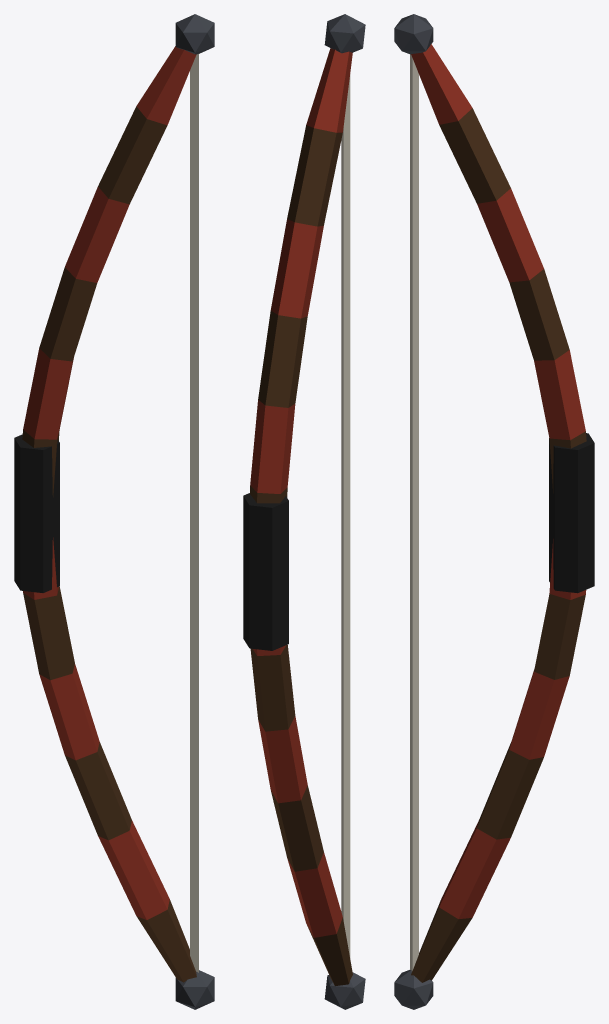
The model's file is weapon_bow.glb.
3 renders of one model, left to right at view 1: azimuth 90°, elevation 25°; view 2: azimuth 150°, elevation 25°; view 3: azimuth 270°, elevation 25°, orthographic.
Parts seen in each view (by area): view 1: orc_weapon_bow; view 2: orc_weapon_bow; view 3: orc_weapon_bow.
Part boxes in pixels (x1,y1,x2,y2): orc_weapon_bow: [14, 14, 214, 1009]; orc_weapon_bow: [243, 14, 365, 1009]; orc_weapon_bow: [394, 14, 594, 1009].
Bounding box in the file's own units: 0.0417 × 1 × 0.1827.
